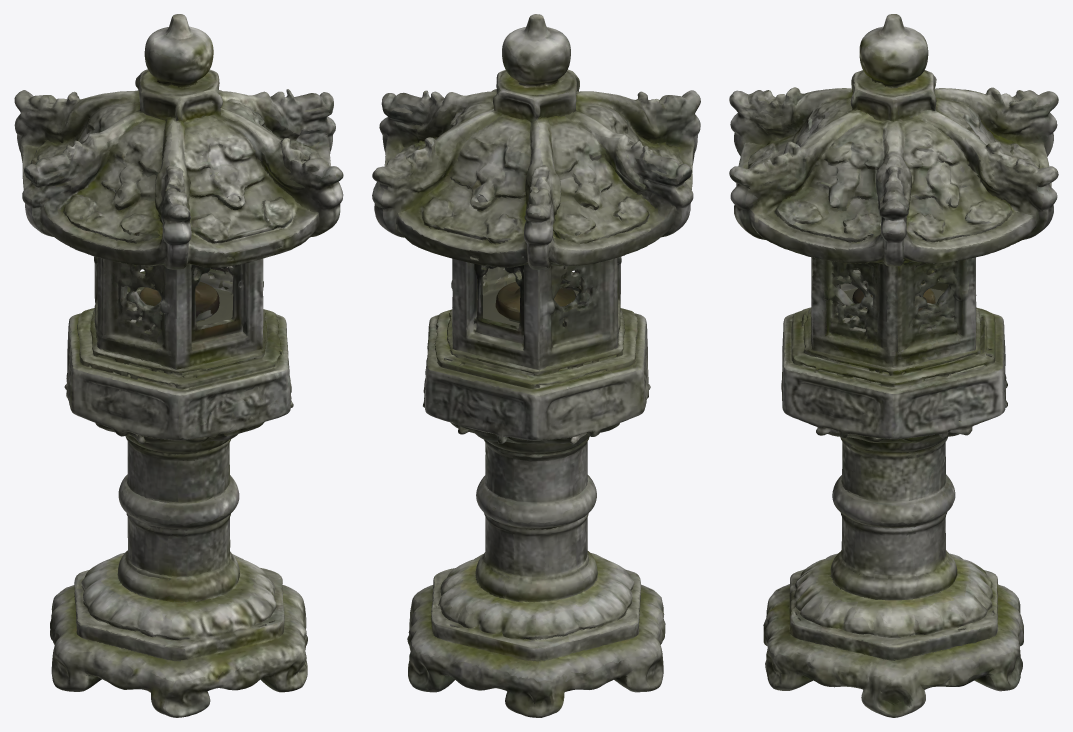
File: stone-shrine.glb
3 views of the same model, side by side, from view 1: azimuth 30°, elevation 25°; view 2: azimuth 150°, elevation 25°; view 3: azimuth 270°, elevation 25° (orthographic).
Parts seen in each view (by area): view 1: geometry_0; view 2: geometry_0; view 3: geometry_0.
Boxes of the visible parts, box(x1,y1,x2,y2) form: geometry_0: box(14, 14, 343, 717); geometry_0: box(372, 14, 700, 717); geometry_0: box(729, 14, 1058, 717).
Bounding box in the file's own units: 0.6018 × 1.2 × 0.557.
Materials: 1 (1 with a texture image).
